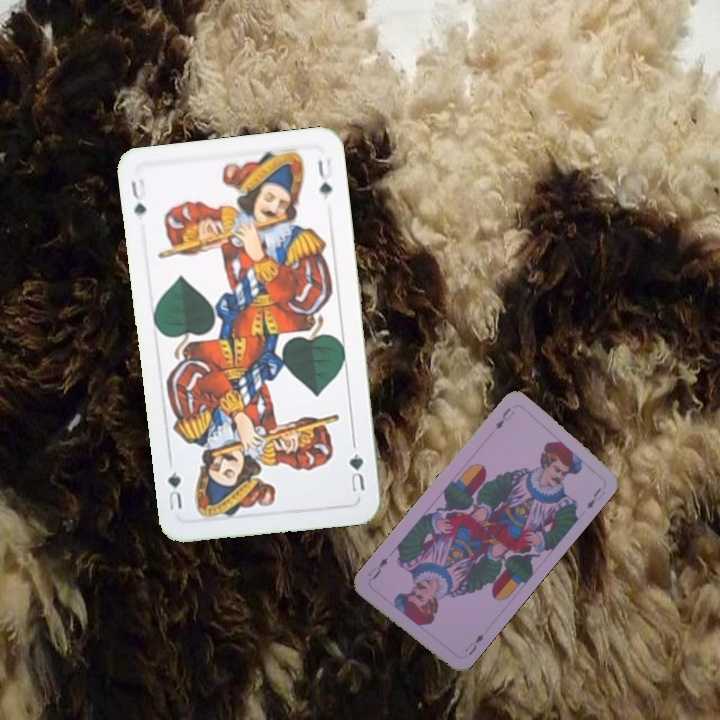EU: (460, 630, 486, 658), (491, 404, 517, 432)
GU: (345, 449, 368, 495), (127, 175, 149, 219)
